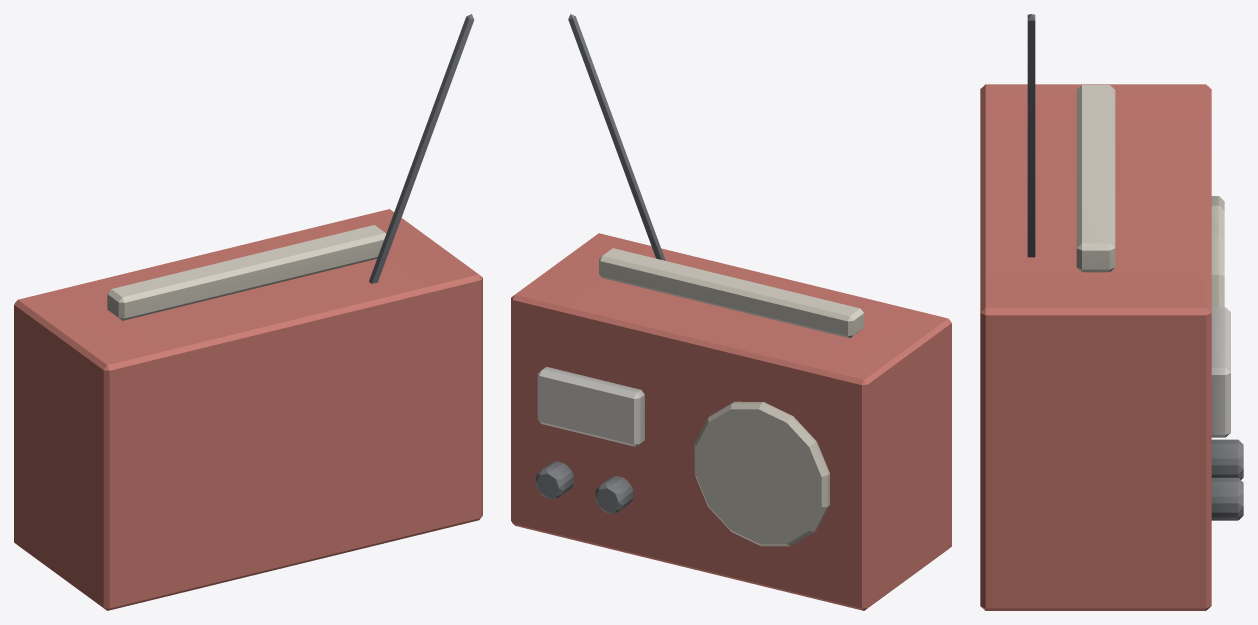
Rendered from furn_radio__red.glb.
3 renders of one model, left to right at view 1: azimuth 30°, elevation 25°; view 2: azimuth 150°, elevation 25°; view 3: azimuth 270°, elevation 25°, orthographic. The views are drawn at different scales.
Size of the model in its own units: 0.4295 by 0.5182 by 0.205.
